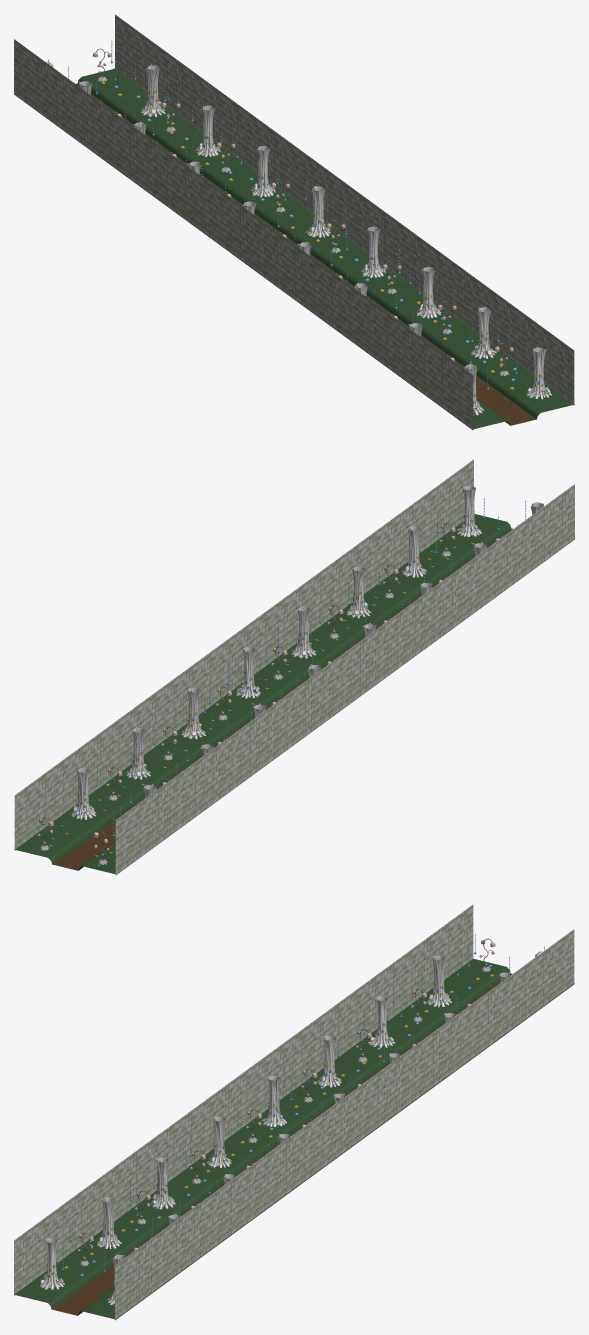
File: joymap.fbx
3 views of the same model, one above another, from view 1: azimuth 30°, elevation 25°; view 2: azimuth 150°, elevation 25°; view 3: azimuth 330°, elevation 25° (orthographic).
Parts seen in each view (by area): view 1: joymap; view 2: joymap; view 3: joymap.
Boxes of the visible parts, x1,y1,x2,y2 form: joymap: (14,14,574,430); joymap: (14,459,574,875); joymap: (14,904,574,1320).
Size of the model in its own units: 1921 by 1083 by 15000.
